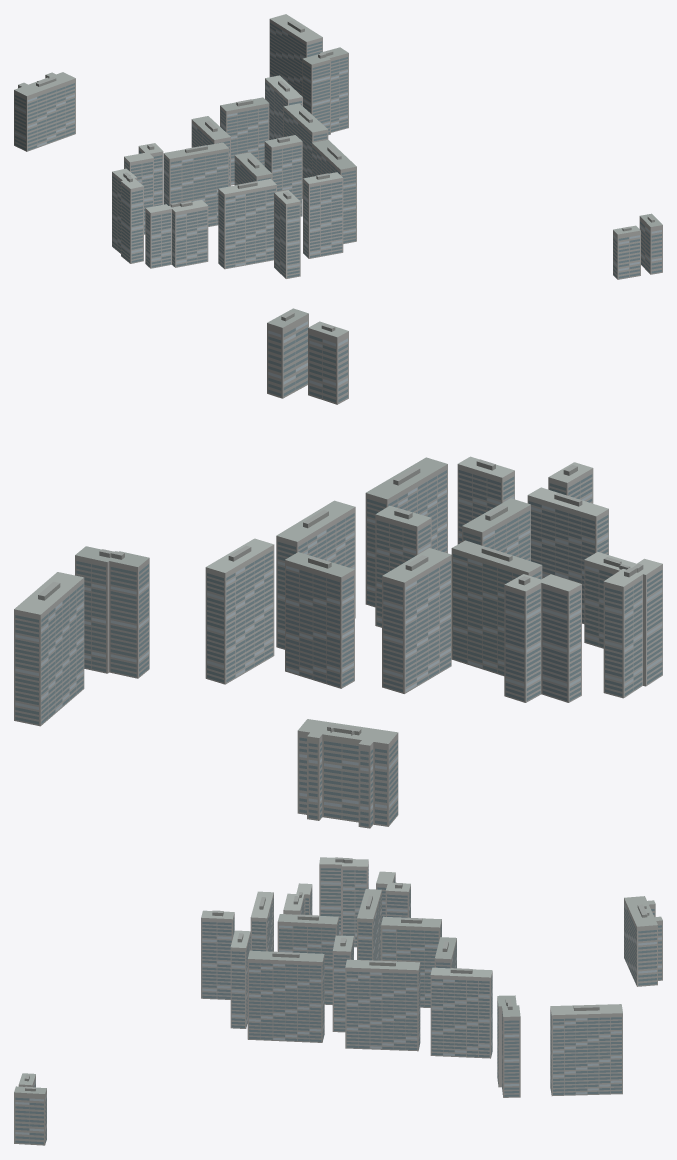
The model's file is apt-a15106901.glb.
3 renders of one model, top to bottom at view 1: azimuth 30°, elevation 25°; view 2: azimuth 150°, elevation 25°; view 3: azimuth 270°, elevation 25°, orthographic. The views are drawn at different scales.
Parts seen in each view (by area): view 1: apt-a15106901; view 2: apt-a15106901; view 3: apt-a15106901.
Part boxes in pixels (x1,y1,x2,y2): apt-a15106901: (14,14,662,279); apt-a15106901: (14,308,662,828); apt-a15106901: (14,857,662,1145).
Size of the model in its own units: 338 by 64 by 448.
